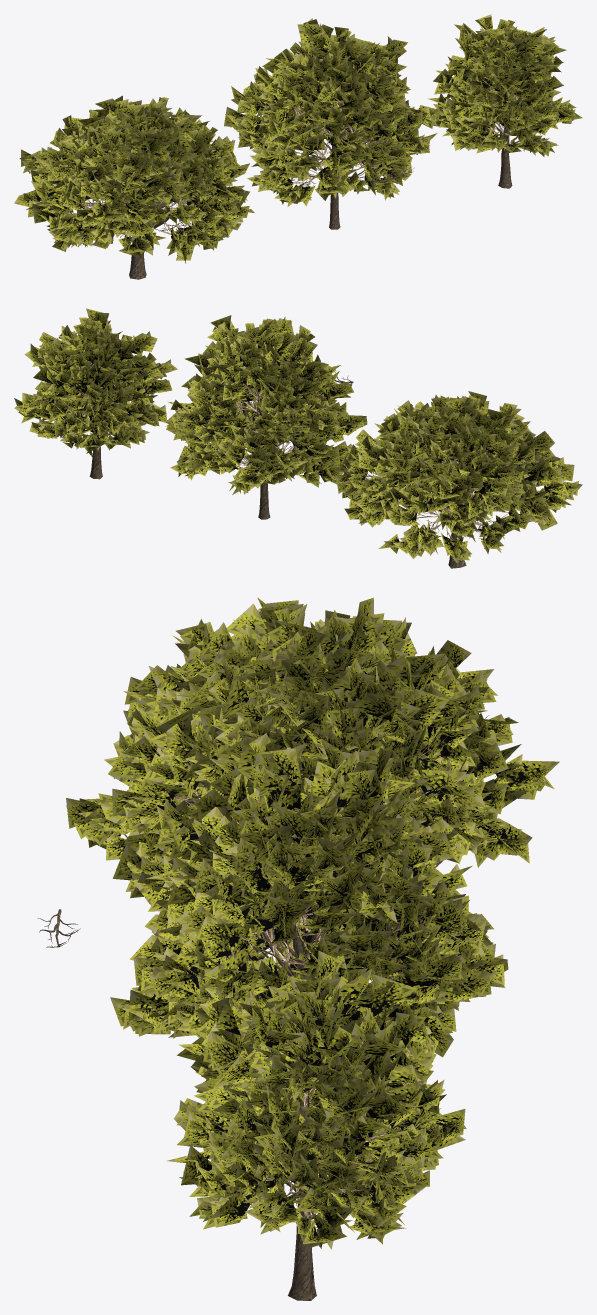
File: oak_tree_animated.glb
3 renders of one model, top to bottom at view 1: azimuth 30°, elevation 25°; view 2: azimuth 150°, elevation 25°; view 3: azimuth 270°, elevation 25°, orthographic. The views are drawn at different scales.
Parts seen in each view (by area): view 1: Leaf_6, Bark_9; view 2: Leaf_6, Bark_9; view 3: Leaf_6, Bark_9.
Boxes of the visible parts, x1=… form: Leaf_6: x1=14, y1=14, x2=582, y2=263; Bark_9: x1=117, y1=75, x2=521, y2=279; Leaf_6: x1=14, y1=308, x2=582, y2=563; Bark_9: x1=83, y1=363, x2=531, y2=568; Leaf_6: x1=66, y1=597, x2=559, y2=1249; Bark_9: x1=182, y1=767, x2=403, y2=1300.
Bounding box in the file's own units: 216 × 75 × 92.76.
Materials: 4 (4 with a texture image).
